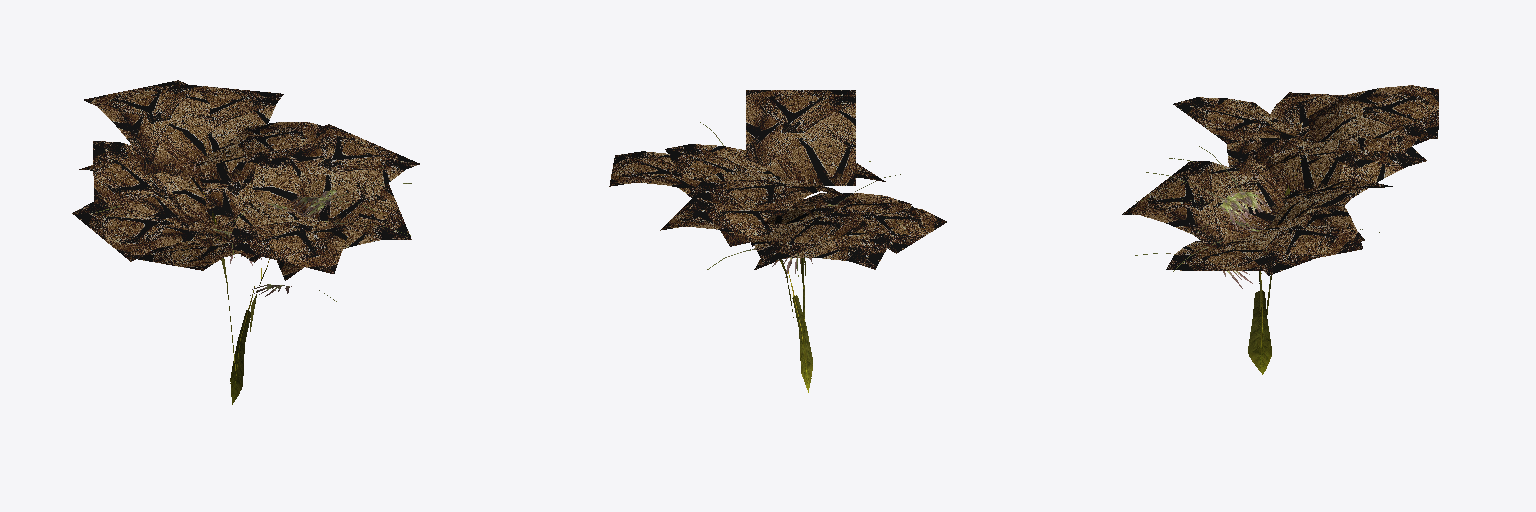
3 renders of one model, left to right at view 1: azimuth 30°, elevation 25°; view 2: azimuth 150°, elevation 25°; view 3: azimuth 270°, elevation 25°, orthographic.
Visible parts, largest first — view 1: Plant1; view 2: Plant1; view 3: Plant1.
Part boxes in pixels (bbox=[...]): Plant1: bbox=[72, 80, 419, 404]; Plant1: bbox=[609, 90, 946, 392]; Plant1: bbox=[1122, 85, 1438, 374].
Bounding box in the file's own units: 240 × 195 × 208.
1 materials, 1 textured.